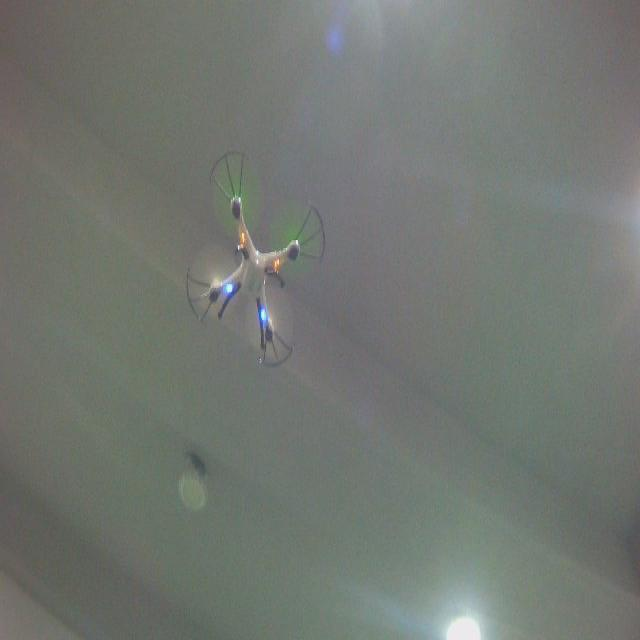drone: (185, 147, 327, 370)
